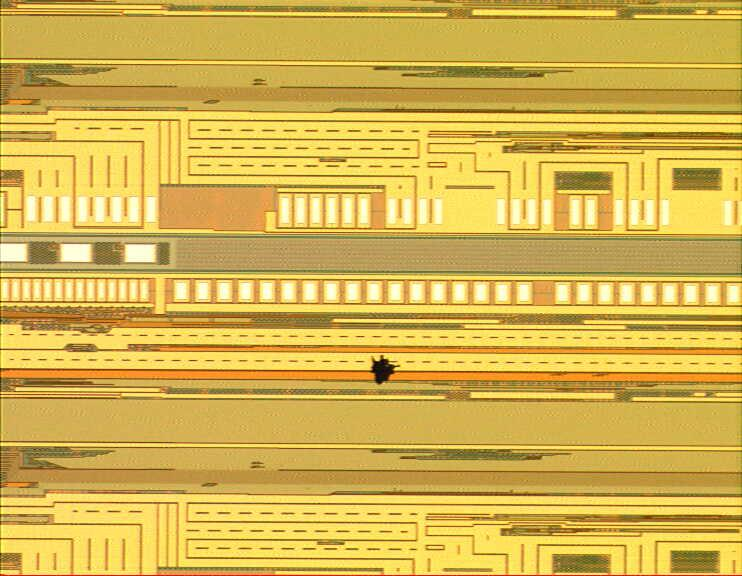PO CONTAMINATION: (365, 351, 401, 387)
